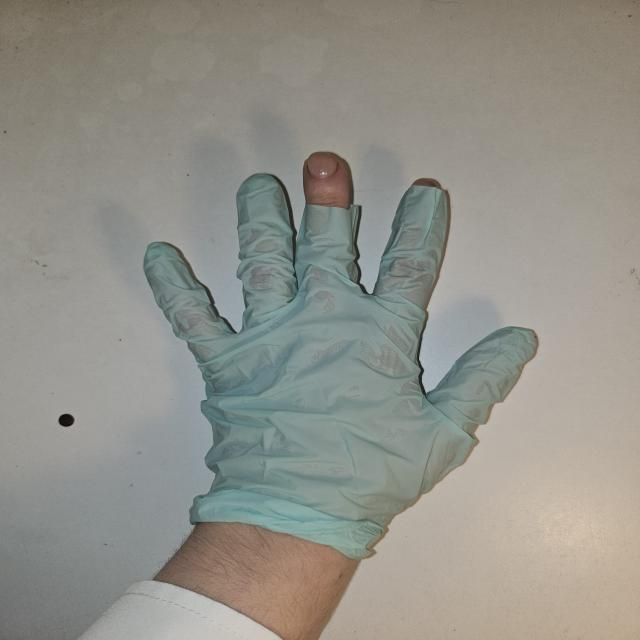gloves_damaged: (141, 149, 540, 553)
